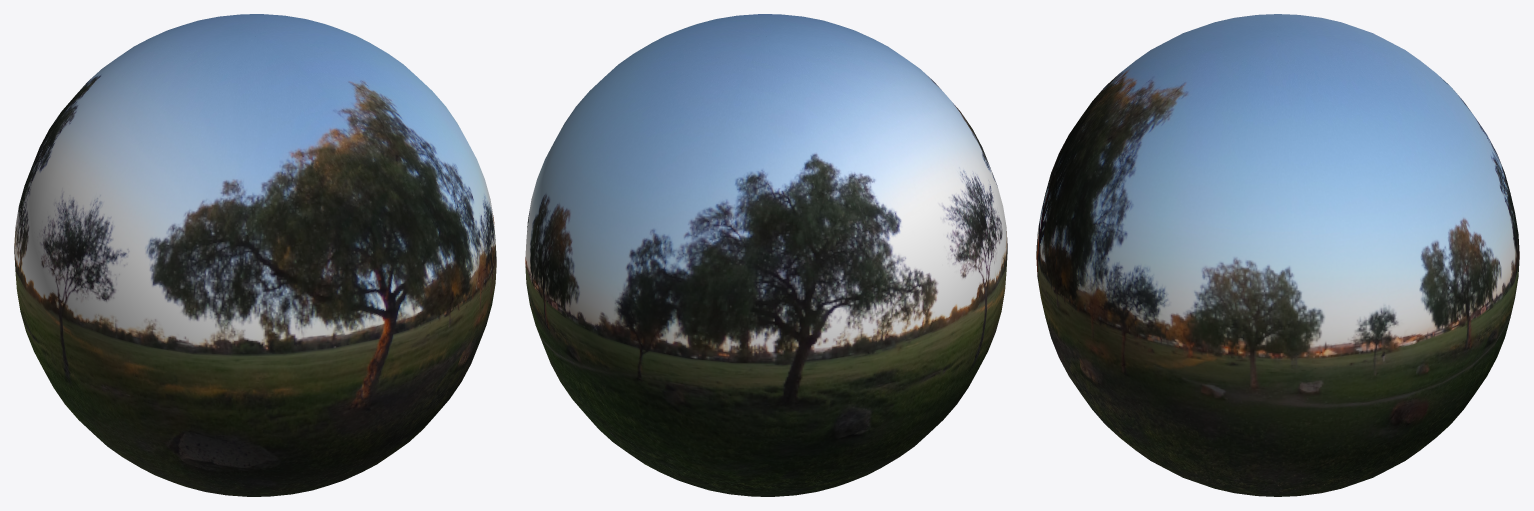
File: field.glb
The picture shows the model from 3 angles, left to right: view 1: azimuth 30°, elevation 25°; view 2: azimuth 150°, elevation 25°; view 3: azimuth 270°, elevation 25°; orthographic projection.
Visible parts, largest first — view 1: skydome_rock_v1; view 2: skydome_rock_v1; view 3: skydome_rock_v1.
Part boxes in pixels (left/top/right/bottom): skydome_rock_v1: left=14, top=14, right=496, bottom=496; skydome_rock_v1: left=525, top=14, right=1007, bottom=496; skydome_rock_v1: left=1036, top=14, right=1519, bottom=496.
Size of the model in its own units: 105 by 105 by 105.
Materials: 1 (1 with a texture image).
